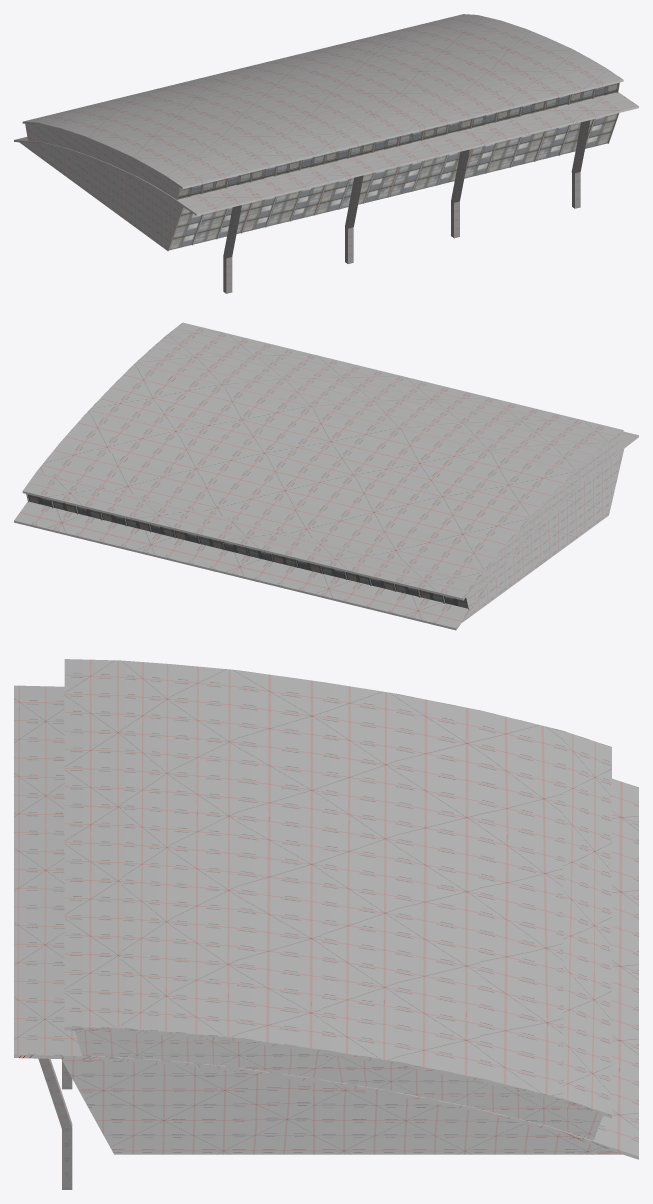
File: terminal_roof_c.FBX
The picture shows the model from 3 angles, top to bottom: view 1: azimuth 30°, elevation 25°; view 2: azimuth 150°, elevation 25°; view 3: azimuth 270°, elevation 25°; orthographic projection. The views are drawn at different scales.
Visible parts, largest first — view 1: terminal_roof_c; view 2: terminal_roof_c; view 3: terminal_roof_c.
Boxes of the visible parts, <box> form: terminal_roof_c: <box>14,14,638,293</box>; terminal_roof_c: <box>14,322,638,630</box>; terminal_roof_c: <box>14,659,638,1189</box>.
Bounding box in the file's own units: 160 × 40.32 × 115.
5 materials, 5 textured.
